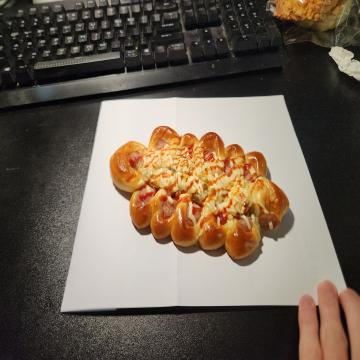pizza_bread: (110, 126, 289, 263)
